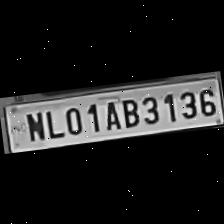0: (58, 104, 84, 136)
1: (81, 100, 102, 134), (158, 89, 177, 123)
3: (137, 92, 161, 125), (176, 88, 198, 120)
6: (194, 85, 217, 116)
A: (100, 96, 122, 132)
B: (116, 94, 140, 128)
L: (42, 106, 64, 140)
N: (22, 107, 46, 141)
